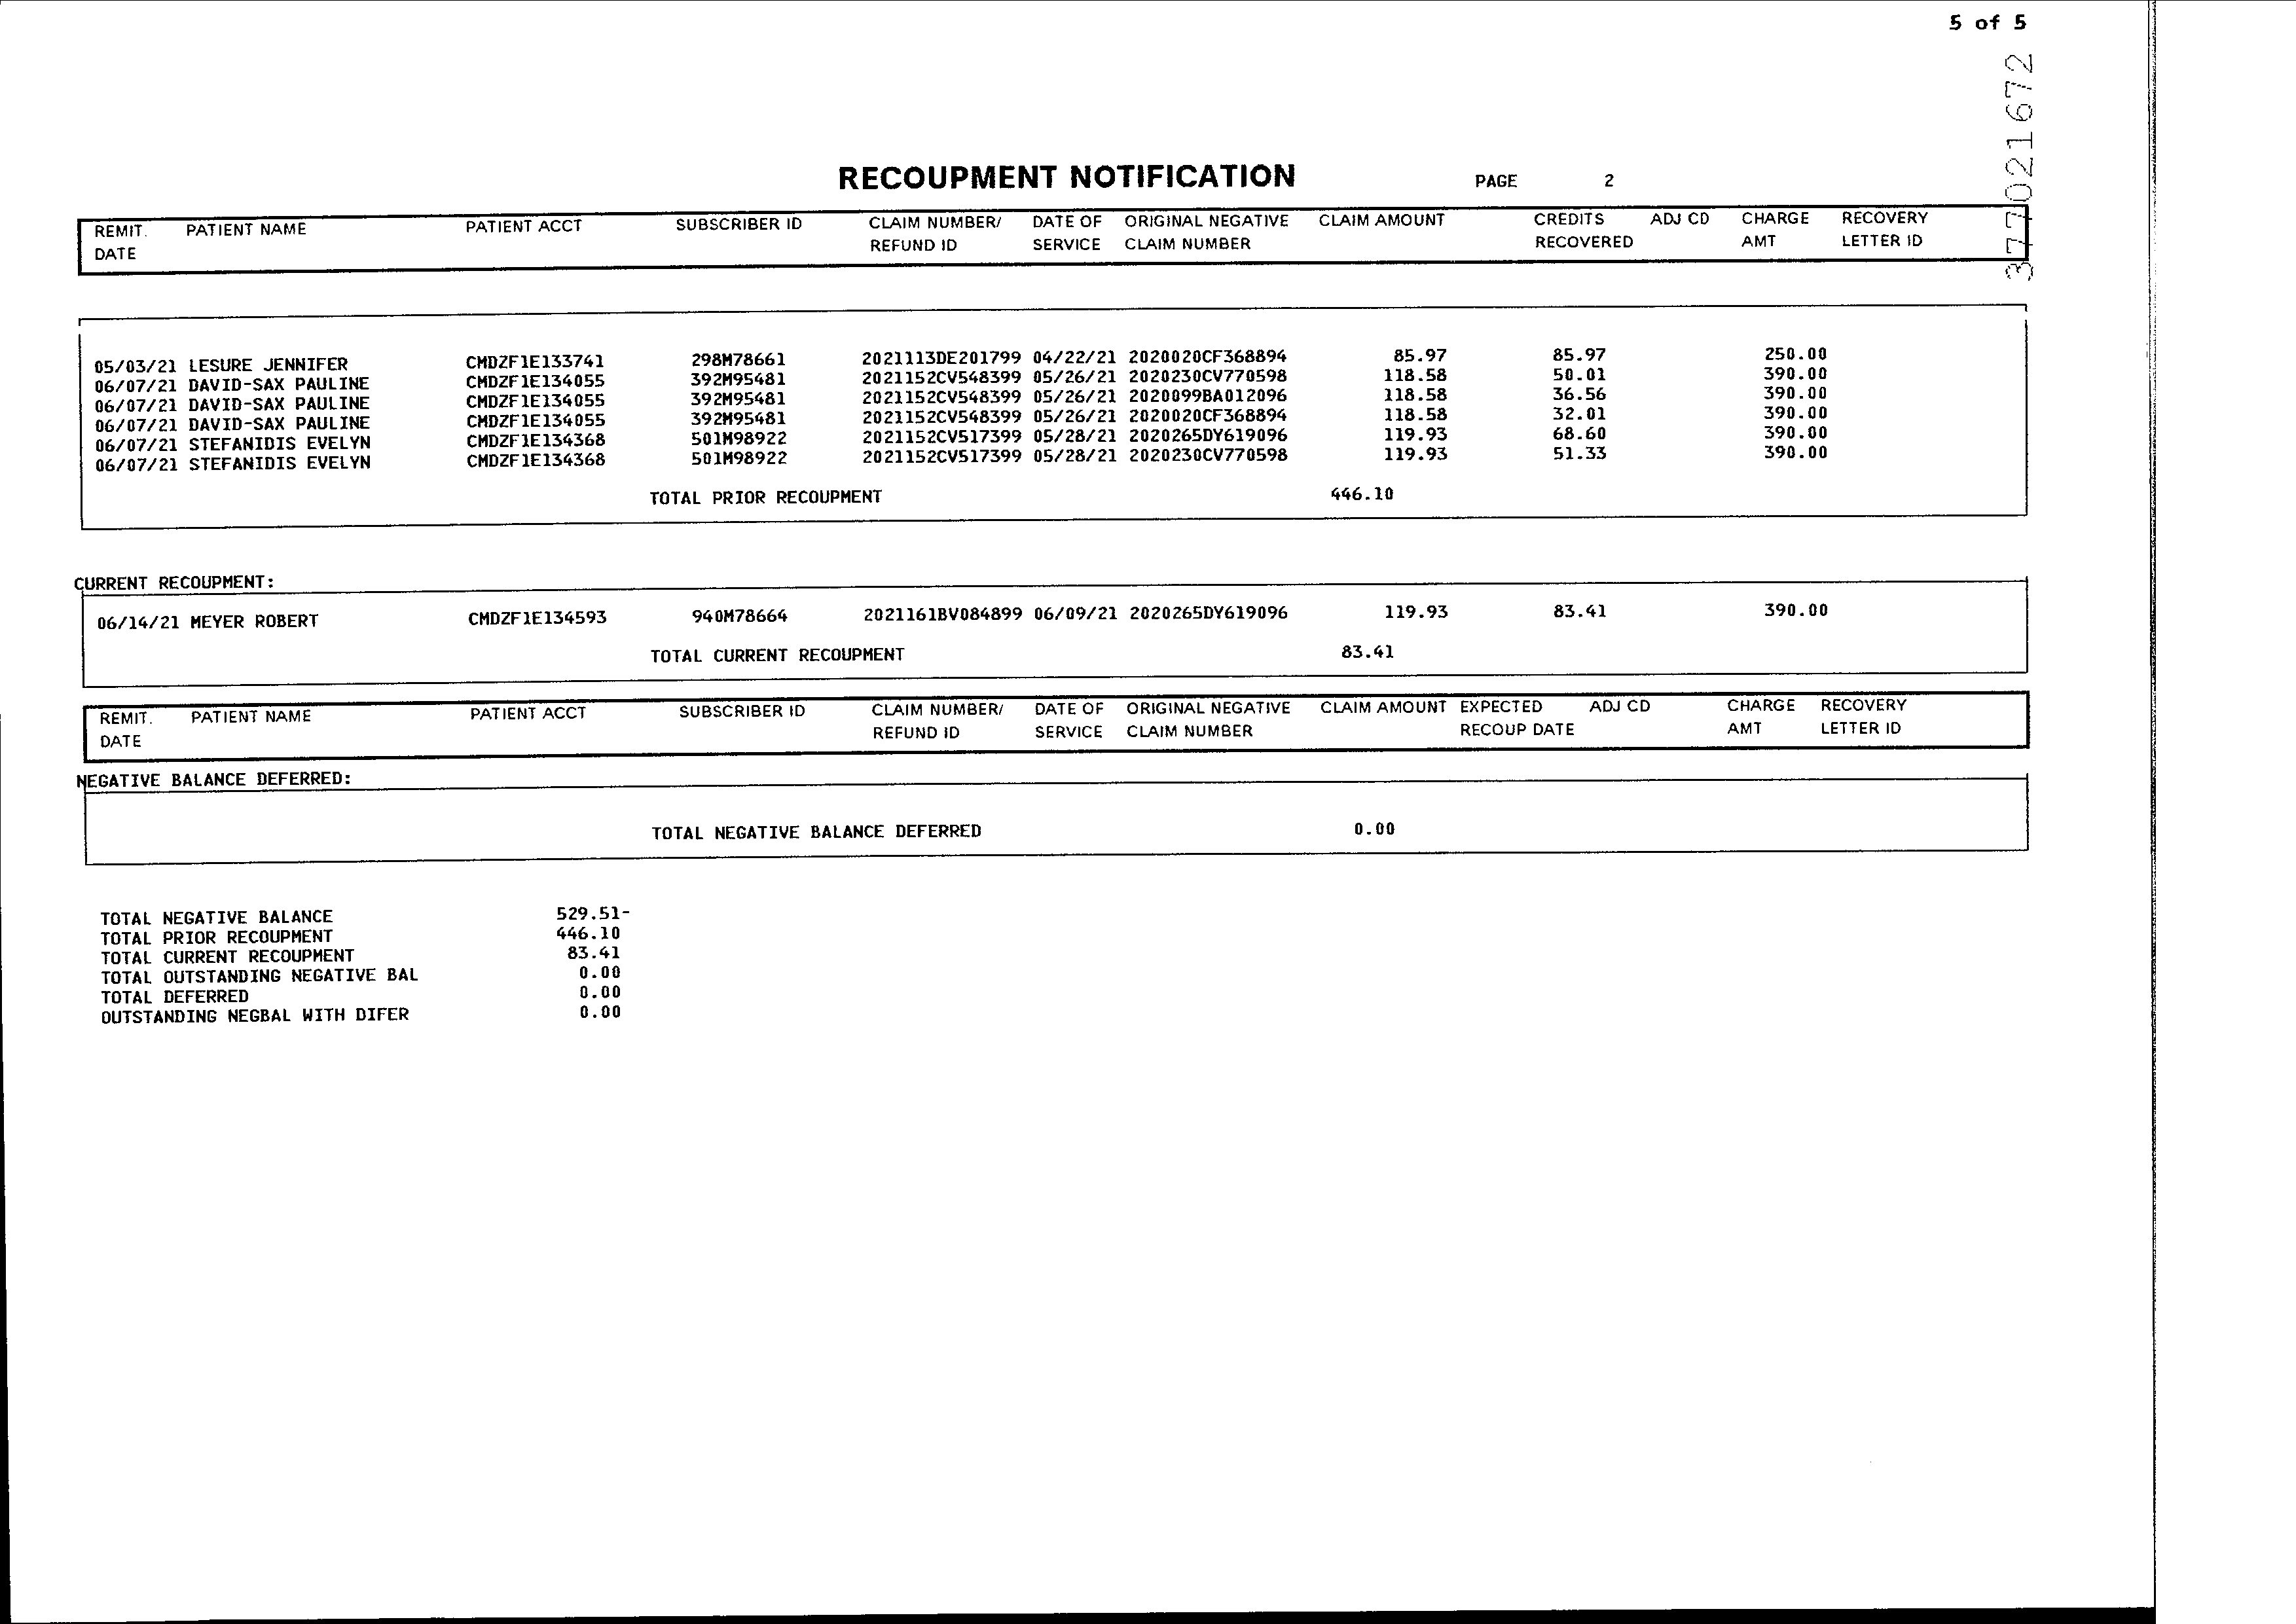data: (67, 562, 2039, 680)
table: (72, 202, 2045, 538)
